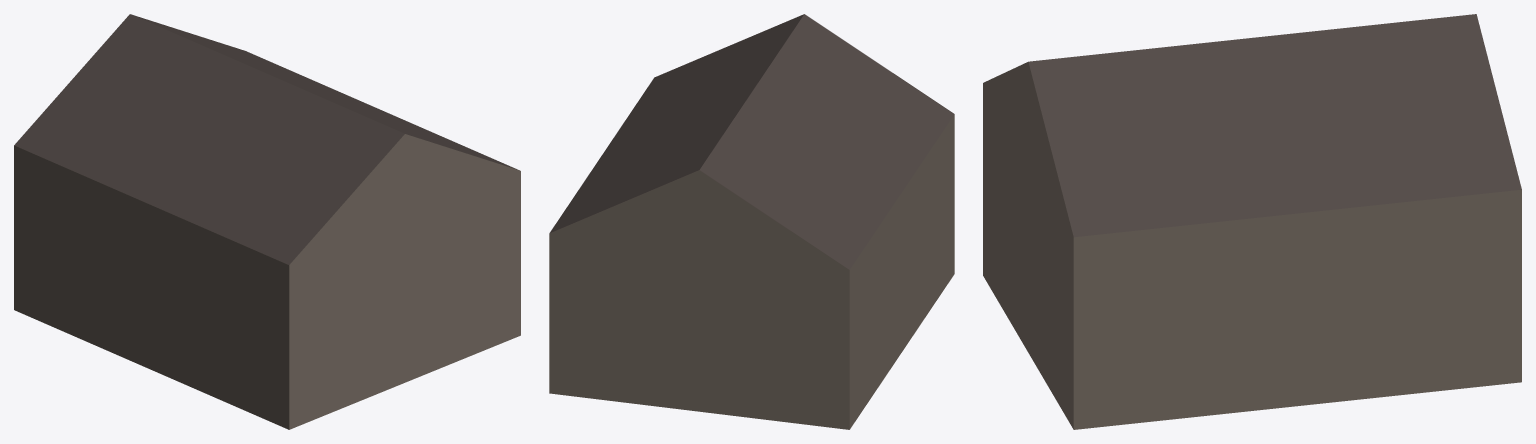
The picture shows the model from 3 angles, left to right: view 1: azimuth 30°, elevation 25°; view 2: azimuth 150°, elevation 25°; view 3: azimuth 270°, elevation 25°; orthographic projection. The views are drawn at different scales.
Parts seen in each view (by area): view 1: HP-w859424259; view 2: HP-w859424259; view 3: HP-w859424259.
Boxes of the visible parts, x1,y1,x2,y2 form: HP-w859424259: [14, 14, 520, 429]; HP-w859424259: [549, 14, 954, 429]; HP-w859424259: [983, 14, 1521, 429].
Bounding box in the file's own units: 13.49 × 9.07 × 15.21.
